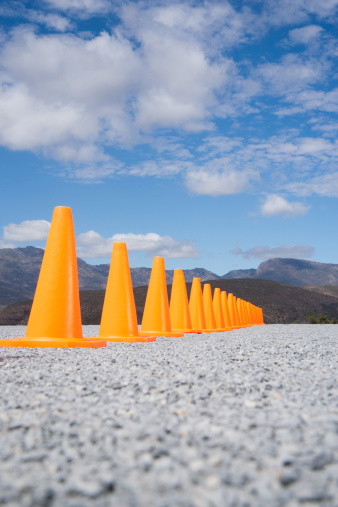trafficcone: (1, 205, 107, 350), (84, 243, 156, 342), (139, 257, 183, 338), (169, 267, 200, 333), (188, 277, 212, 333)
